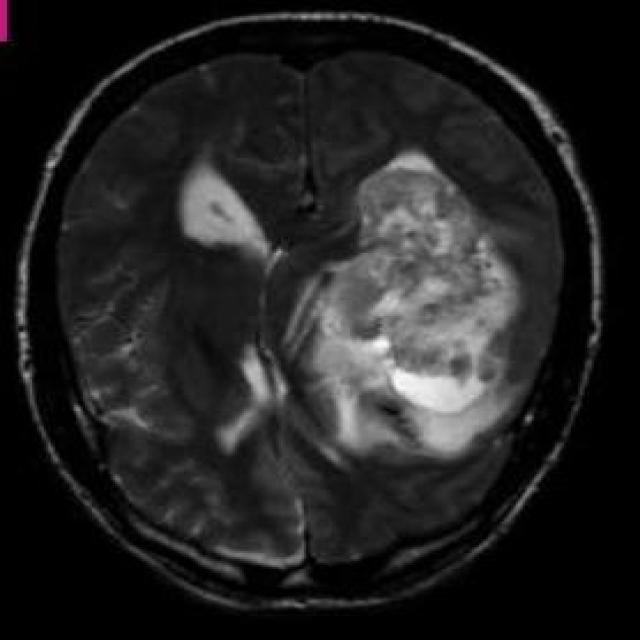brain tumor: (281, 146, 536, 468)
